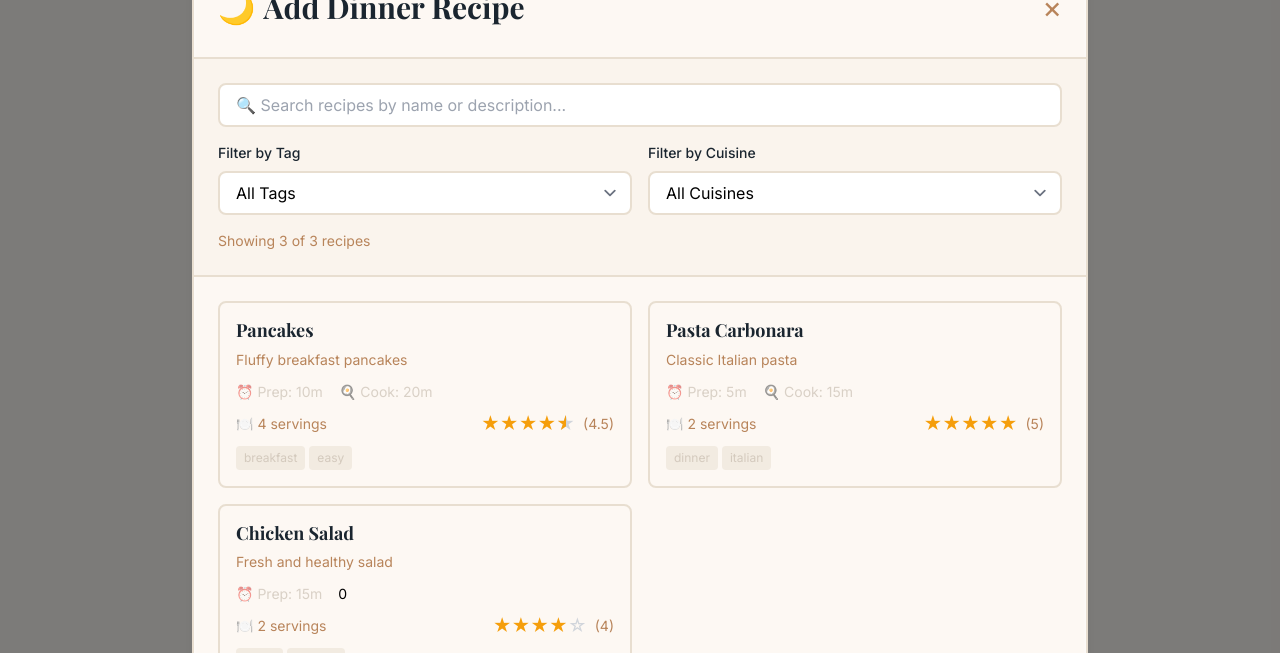
Test: RecipeSelectorModal › selects a recipe when clicked
The width and height of the screenshot is (1280, 653).
Step 1. Click the text "Pancakes" → click(425, 394), box [218, 301, 632, 488]
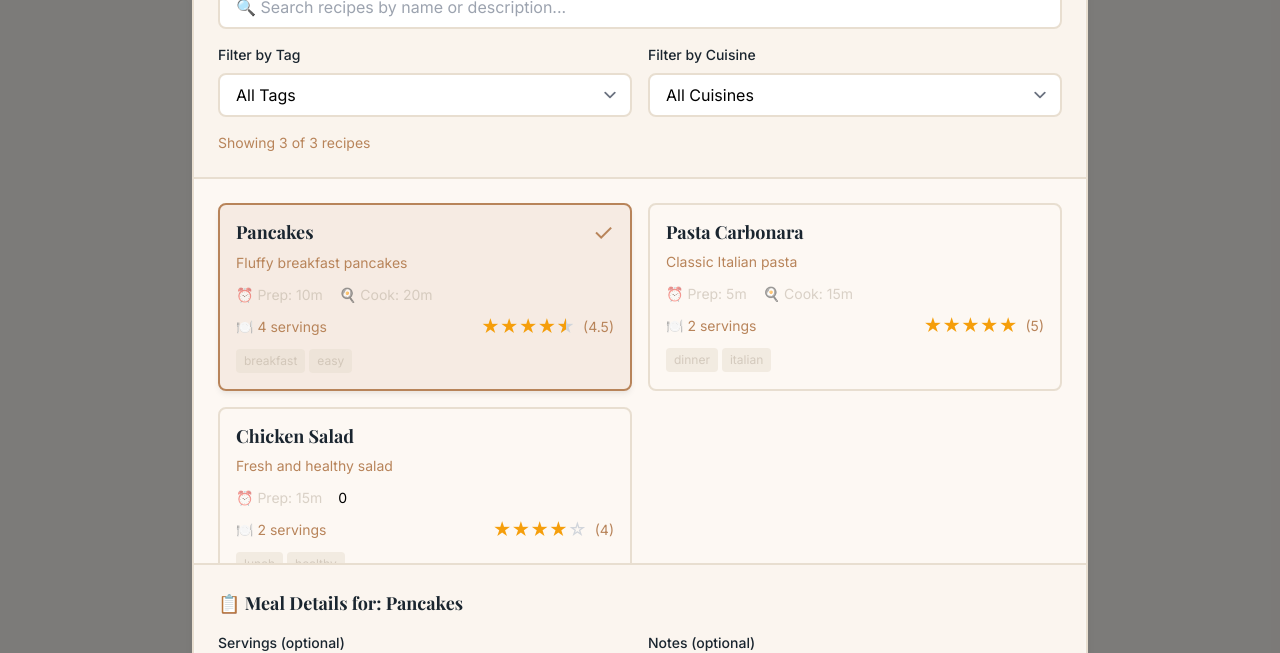
Result: the text "✓" is shown at [593, 221, 614, 245]
